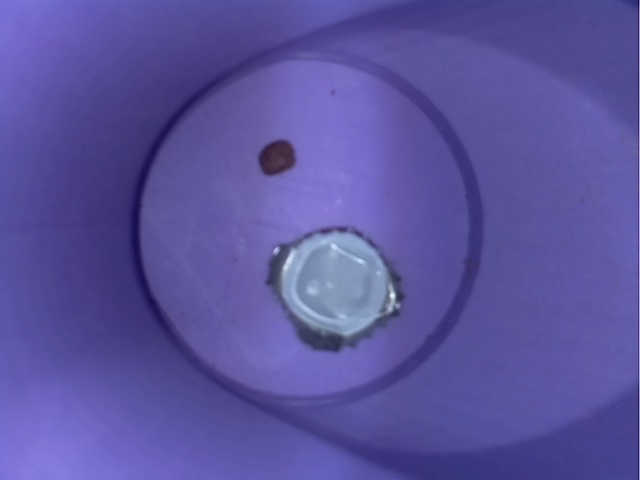capsule: (251, 218, 412, 365)
croquette: (246, 133, 315, 188)
